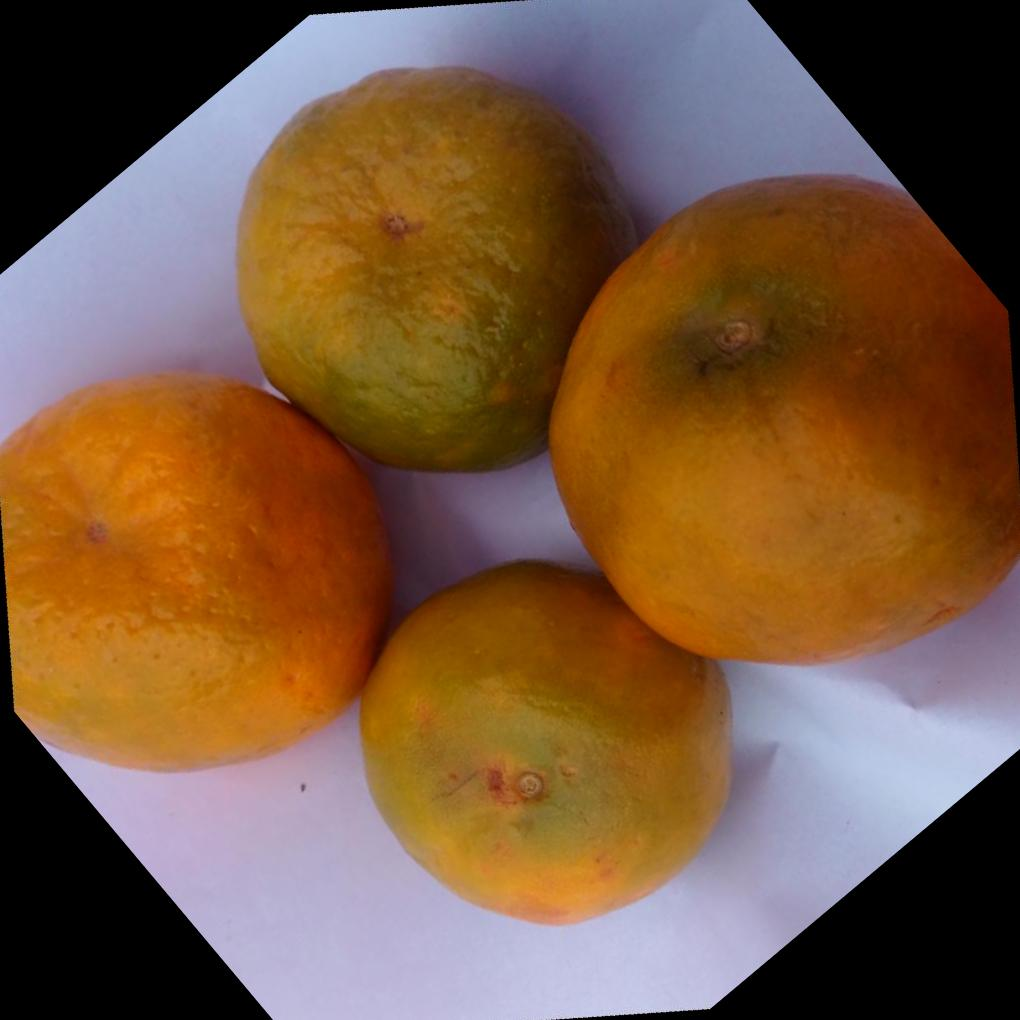FreshGuava: (0, 72, 1020, 924)
